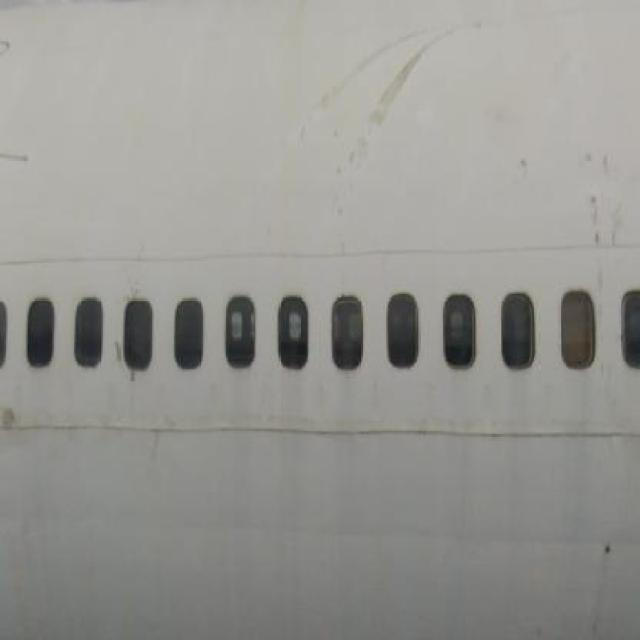Scartch: (294, 1, 504, 204), (574, 143, 626, 291), (584, 525, 627, 567), (0, 401, 26, 444)
